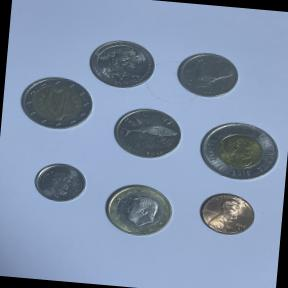coin: (191, 116, 284, 188), (97, 178, 183, 245), (17, 72, 97, 135), (107, 102, 186, 164), (85, 36, 159, 92), (188, 186, 260, 242), (29, 156, 92, 208)
